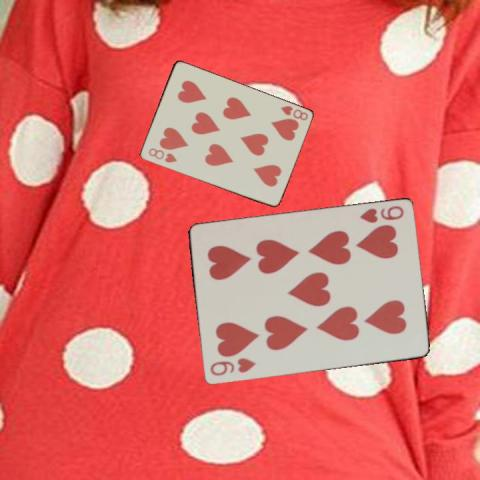8h: (145, 145, 178, 164), (278, 103, 309, 122)
9h: (206, 356, 256, 378), (356, 202, 405, 224)
